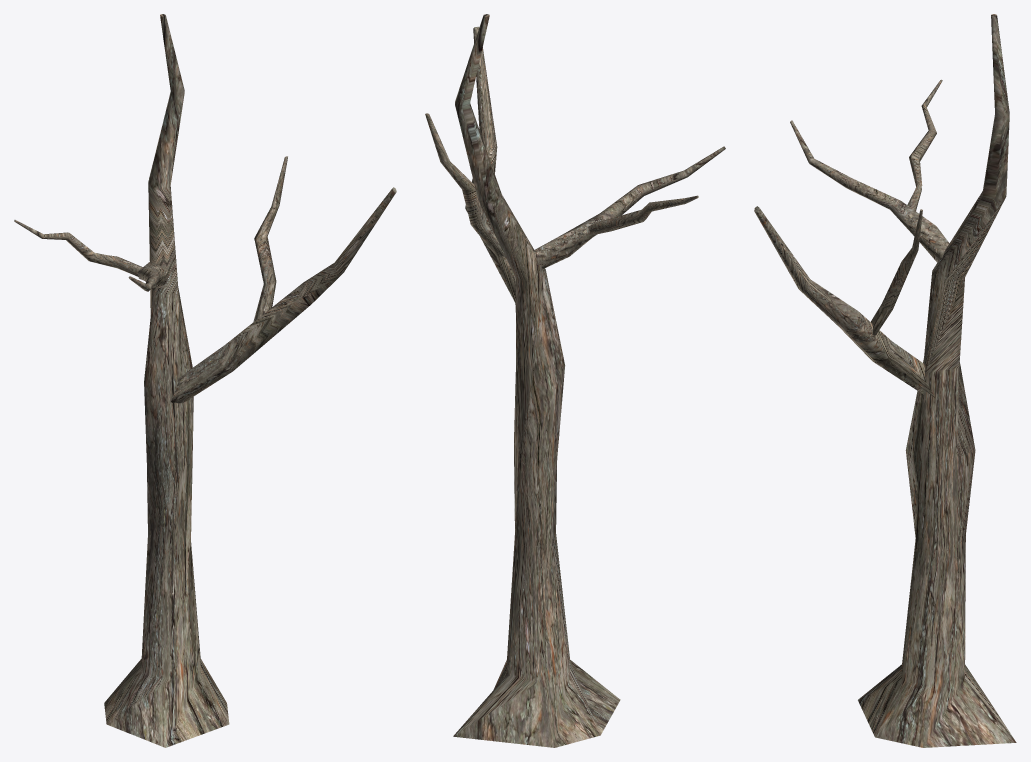
File: DeadTree.FBX
The picture shows the model from 3 angles, left to right: view 1: azimuth 30°, elevation 25°; view 2: azimuth 150°, elevation 25°; view 3: azimuth 270°, elevation 25°; orthographic projection. The views are drawn at different scales.
Parts seen in each view (by area): view 1: Cone001, Cone002, Cone003, w001, w; view 2: Cone001, w, Cone002, Cone003, w001; view 3: Cone001, Cone002, w, Cone003, w001.
Boxes of the visible parts, box(x1,y1,x2,y2) form: Cone001: box(104, 14, 229, 747); Cone002: box(171, 187, 396, 403); Cone003: box(253, 156, 287, 322); w001: box(14, 220, 142, 276); w: box(128, 262, 169, 291); Cone001: box(453, 14, 620, 747); w: box(533, 146, 725, 268); Cone002: box(465, 26, 515, 312); Cone003: box(425, 113, 505, 257); w001: box(588, 195, 698, 234); Cone001: box(858, 14, 1016, 747); Cone002: box(754, 206, 934, 397); w: box(790, 120, 949, 262); Cone003: box(871, 209, 922, 335); w001: box(907, 79, 942, 210).
Bounding box in the file's own units: 43.25 × 93.65 × 31.09.
